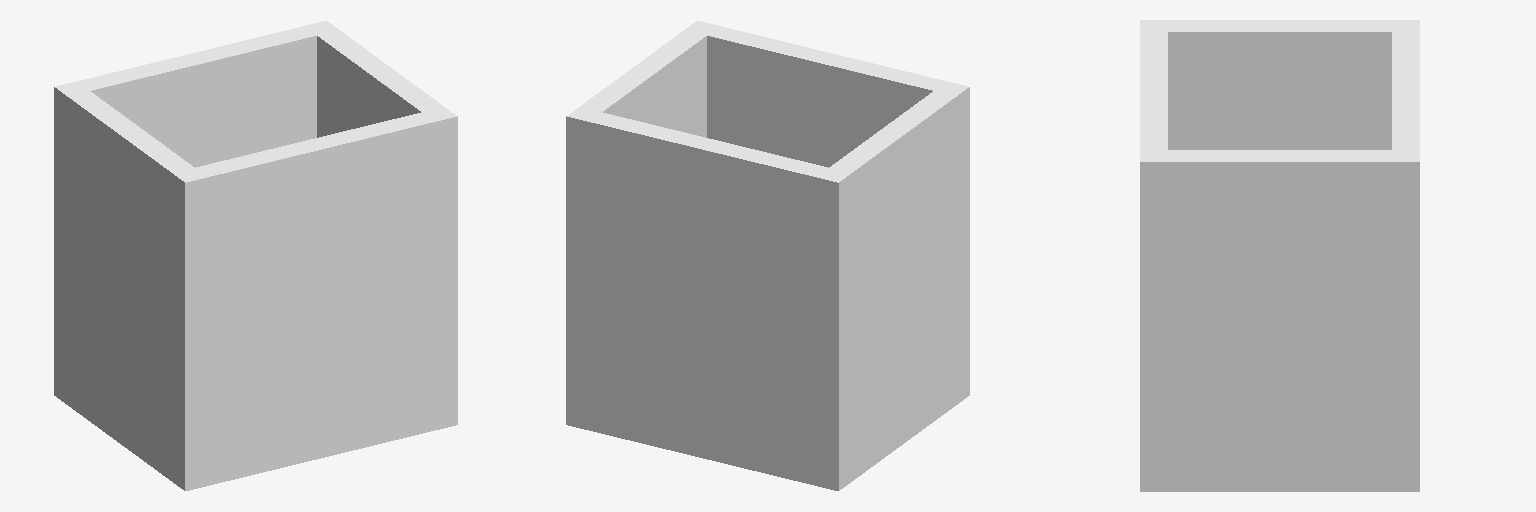
The robot description file, URDF, robot "custom_bin":
<?xml version='1.0' encoding='UTF-8'?>
<robot name="custom_bin">
  <link name="base_link">
    <inertial>
      <origin xyz="0.0000E+00 0.0000E+00 2.3500E-01" rpy="0.0000E+00 0.0000E+00 0.0000E+00"/>
      <mass value="1.0000E+00"/>
      <inertia ixx="5.5331E-03" ixy="-0.0000E+00" ixz="-0.0000E+00" iyy="6.4206E-03" iyz="-0.0000E+00" izz="5.8125E-03"/>
    </inertial>
    <visual>
      <origin xyz="0.0000E+00 0.0000E+00 0.0000E+00" rpy="0.0000E+00 0.0000E+00 0.0000E+00"/>
      <geometry>
        <mesh filename="2a309d28c7e13beb7bb6ad576823f16e.stl" scale="1.0000E+00 1.0000E+00 1.0000E+00"/>
      </geometry>
      <material name="undefined">
        <color rgba="1.0000E+00 1.0000E+00 1.0000E+00 1.0000E+00"/>
      </material>
    </visual>
    <collision>
      <origin xyz="0.0000E+00 0.0000E+00 -2.5000E-02" rpy="0.0000E+00 0.0000E+00 0.0000E+00"/>
      <geometry>
        <box size="6.0000E-01 5.0000E-01 5.0000E-02"/>
      </geometry>
    </collision>
    <collision>
      <origin xyz="2.7500E-01 0.0000E+00 2.7500E-01" rpy="0.0000E+00 0.0000E+00 0.0000E+00"/>
      <geometry>
        <box size="5.0000E-02 5.0000E-01 6.5000E-01"/>
      </geometry>
    </collision>
    <collision>
      <origin xyz="-2.7500E-01 0.0000E+00 2.7500E-01" rpy="0.0000E+00 0.0000E+00 0.0000E+00"/>
      <geometry>
        <box size="5.0000E-02 5.0000E-01 6.5000E-01"/>
      </geometry>
    </collision>
    <collision>
      <origin xyz="0.0000E+00 2.2500E-01 2.7500E-01" rpy="0.0000E+00 0.0000E+00 0.0000E+00"/>
      <geometry>
        <box size="6.0000E-01 5.0000E-02 6.5000E-01"/>
      </geometry>
    </collision>
    <collision>
      <origin xyz="0.0000E+00 -2.2500E-01 2.7500E-01" rpy="0.0000E+00 0.0000E+00 0.0000E+00"/>
      <geometry>
        <box size="6.0000E-01 5.0000E-02 6.5000E-01"/>
      </geometry>
    </collision>
    <contact>
      <lateral_friction value="7.0000E-01"/>
      <rolling_friction value="1.0000E-03"/>
      <spinning_friction value="1.0000E-02"/>
      <restitution value="0.0000E+00"/>
    </contact>
  </link>
</robot>

--- What the picture shows (computed from the rendered views, not written in the file) ---
The picture shows the robot from 3 angles, left to right: view 1: azimuth 30°, elevation 25°; view 2: azimuth 150°, elevation 25°; view 3: azimuth 270°, elevation 25°; orthographic projection.
Model custom_bin with 1 links and 0 joints (none), rooted at base_link, posed all joints at 0.
Links seen in each view (by area): view 1: base_link; view 2: base_link; view 3: base_link.
Link boxes in pixels (x1,y1,x2,y2): base_link: (54, 21, 457, 490); base_link: (566, 21, 969, 490); base_link: (1140, 20, 1419, 491).
Size in the robot's own frame: 0.6 by 0.5 by 0.65 metres.
1 mesh visuals loaded from 1 distinct referenced files (1 binary STL).